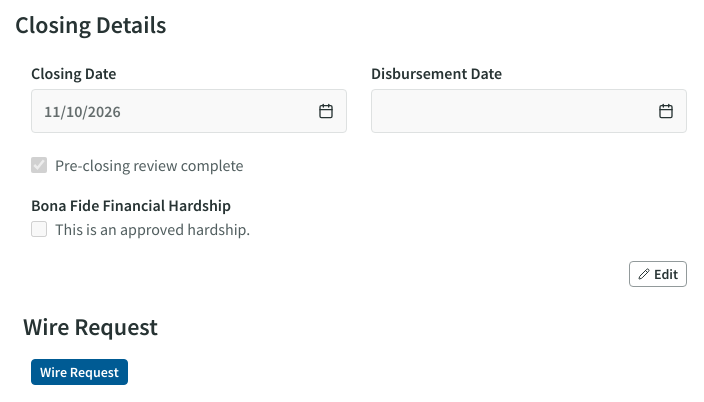
Test: edits, saves, restores and discards the disbursement date without changing existing closing data
Later steps or results of the test are not shown.
Check: the field with test id "input-disbursement-date" is empty, box x1=384 y1=101 x2=658 y2=121
Check: the field with test id "input-disbursement-date" is disabled, box x1=384 y1=101 x2=658 y2=121
Click the button with test id "button-edit-closing-details" at (658,274), box x1=629 y1=261 x2=687 y2=287
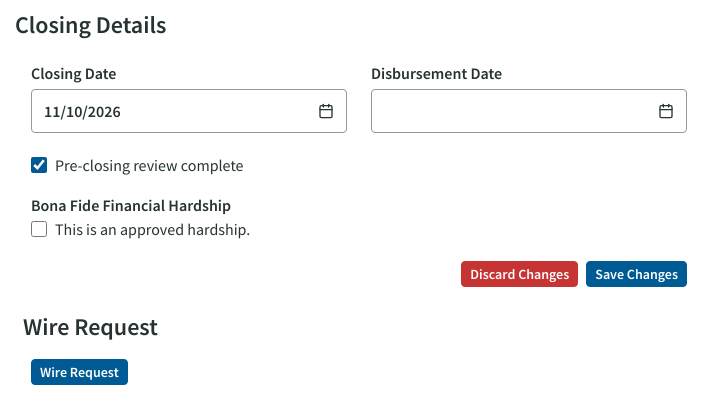
Type "11/12/2026" into the field with test id "input-disbursement-date" at (521,111), box x1=384 y1=101 x2=658 y2=121
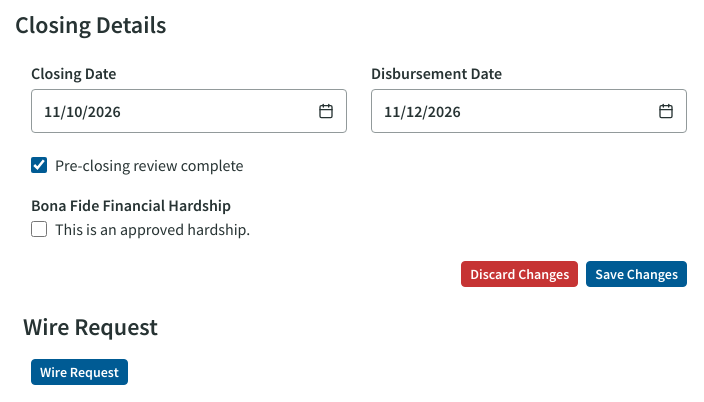
Click the button with test id "button-save-closing-details" at (637,274), box x1=586 y1=261 x2=687 y2=287
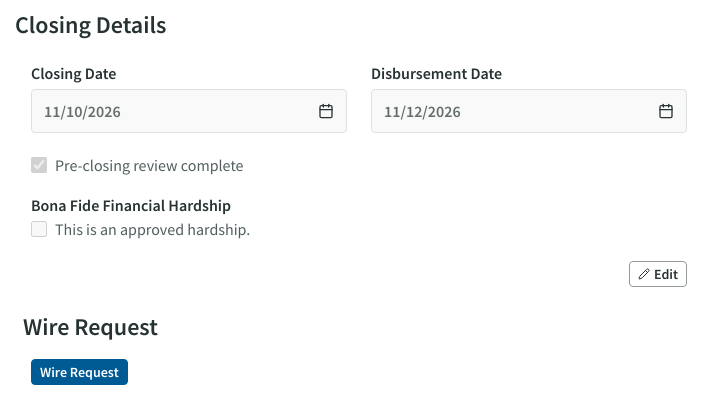
Check: the field with test id "input-disbursement-date" is disabled, box x1=384 y1=101 x2=658 y2=121
